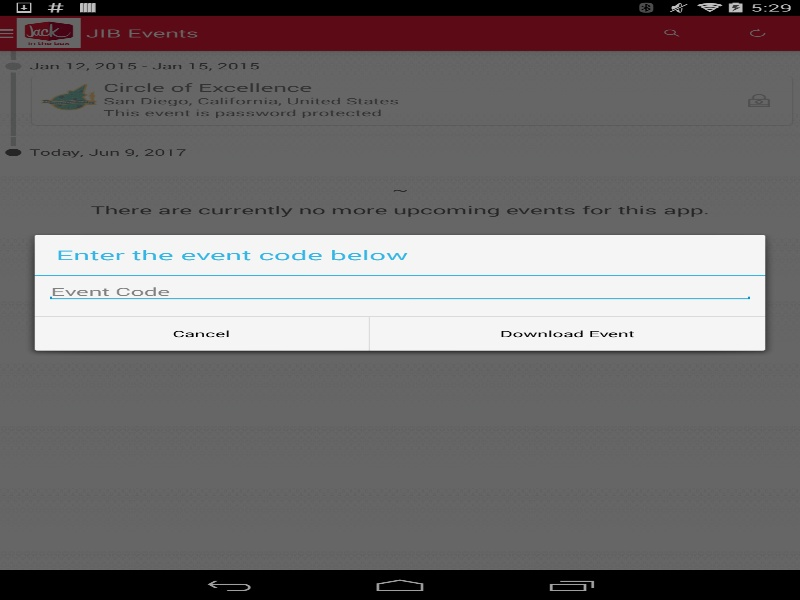Button: (370, 316, 765, 350), (34, 316, 368, 350)
Input: (45, 281, 754, 301)
